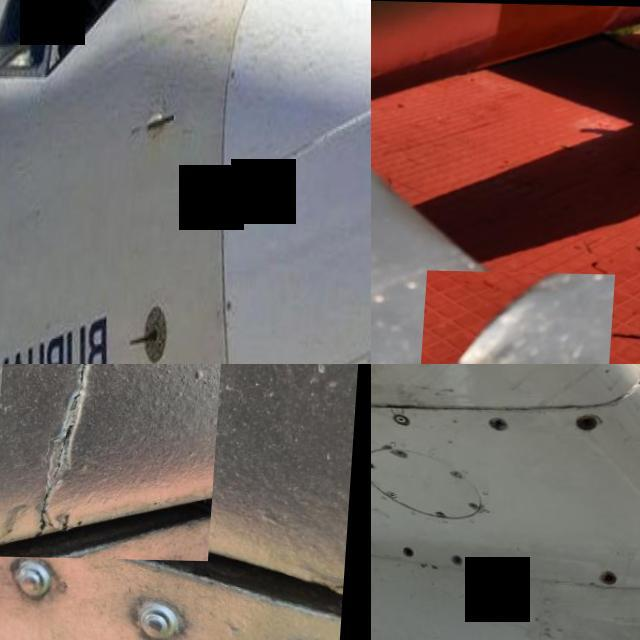Crack: (0, 364, 238, 558), (631, 379, 640, 387)
Dent: (421, 269, 618, 364)
Missing_Fastener: (575, 412, 603, 428), (484, 416, 512, 431), (601, 568, 626, 584), (408, 546, 418, 557)
